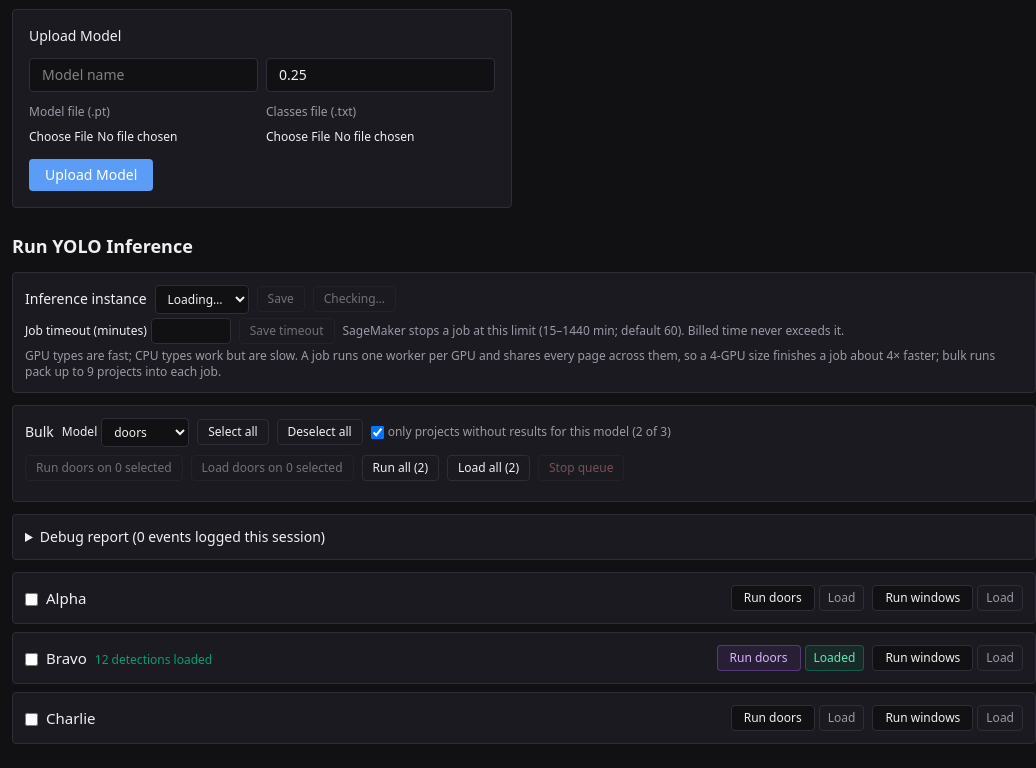
Scenario: YoloBulkBar in AiModelsTab › Select all honours the default-on 'without results' filter; Deselect all clears; counts follow
(page scrolled)
Expected: the button "Run doors on 0 selected" is disabled, [25,455,183,481]
Expected: the button "Run all (2)" is shown, [362,455,439,481]
Click the button "Select all": click(233, 432) [197,419,269,445]
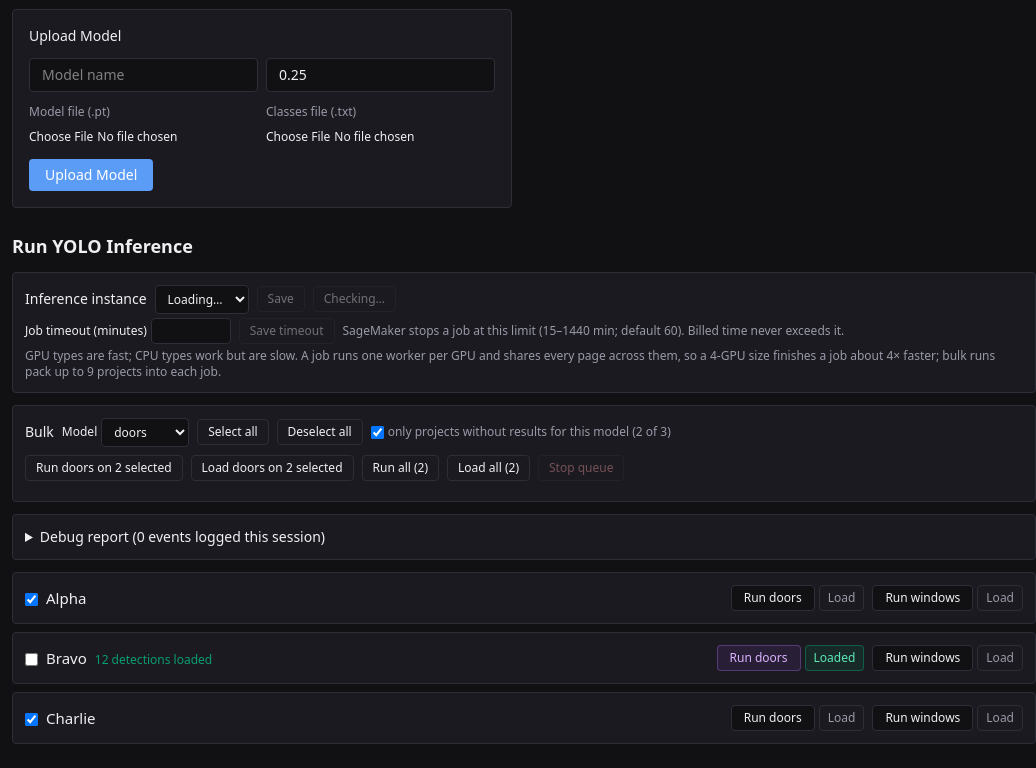
Expected: the checkbox named "Select Alpha for bulk" is checked, [25,593,38,606]
Expected: the button "Run doors on 2 selected" is enabled, [25,455,183,481]
Expected: the button "Load doors on 2 selected" is shown, [191,455,354,481]
Click the checkbox labelled "only projects without results for this model (2 of 3)": click(377, 432) [371,426,384,439]
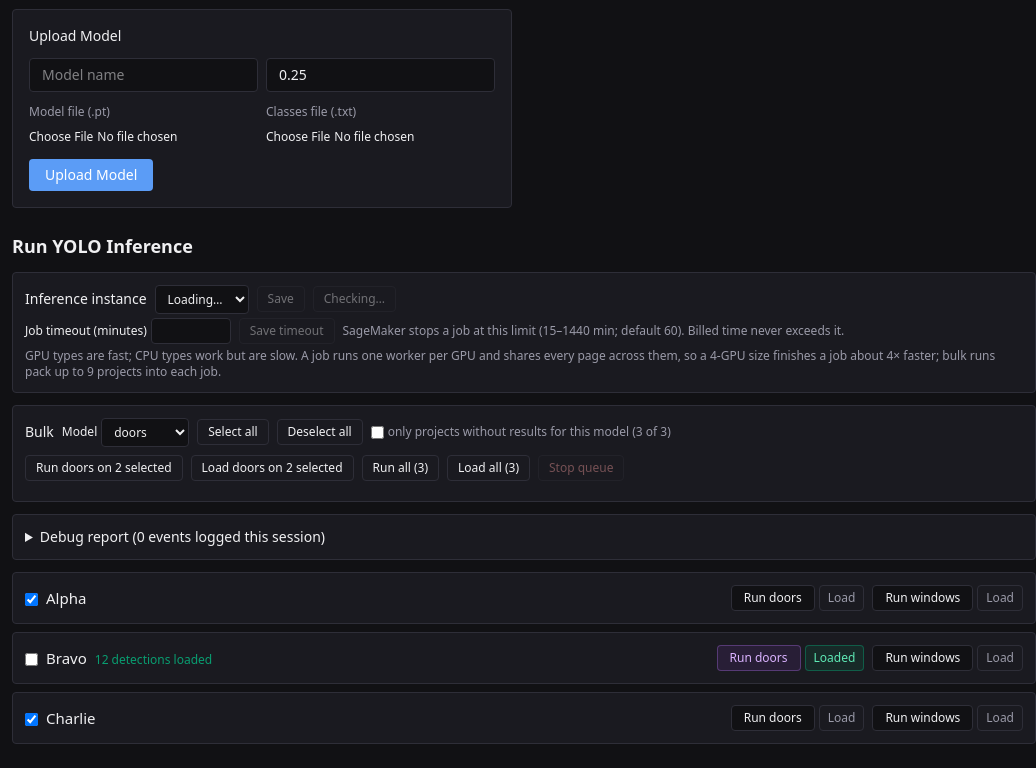
Expected: the button "Run all (3)" is shown, [362,455,439,481]
Click the button "Select all": click(233, 432) [197,419,269,445]
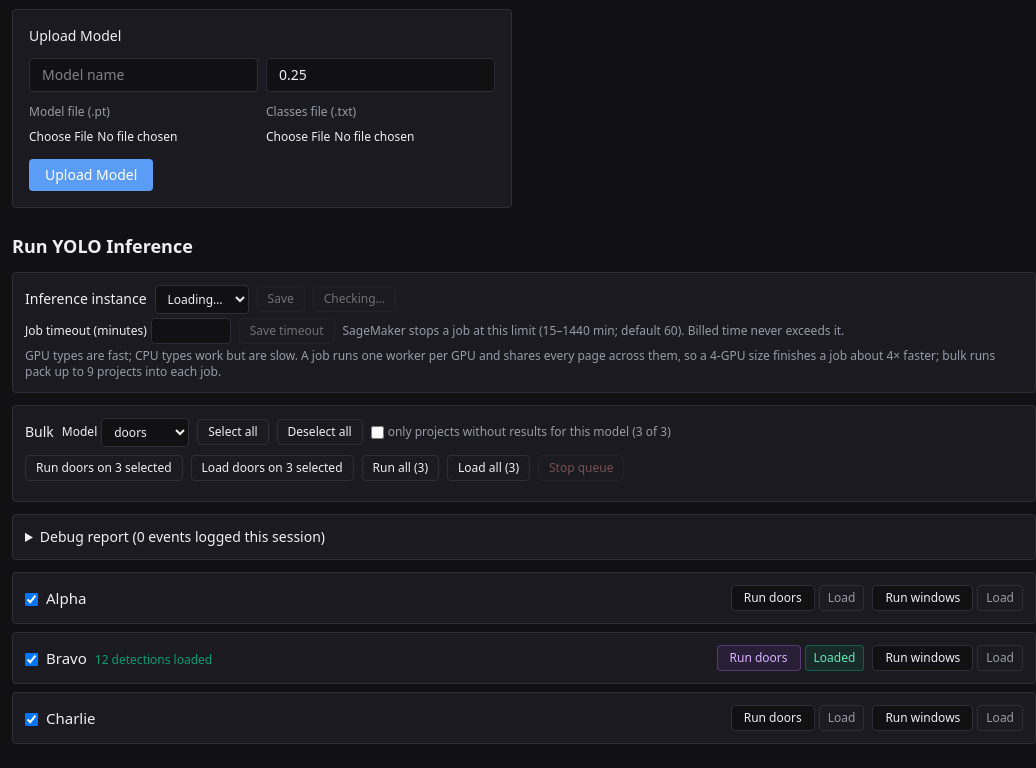
Click the button "Deselect all": click(320, 432) [277,419,363,445]
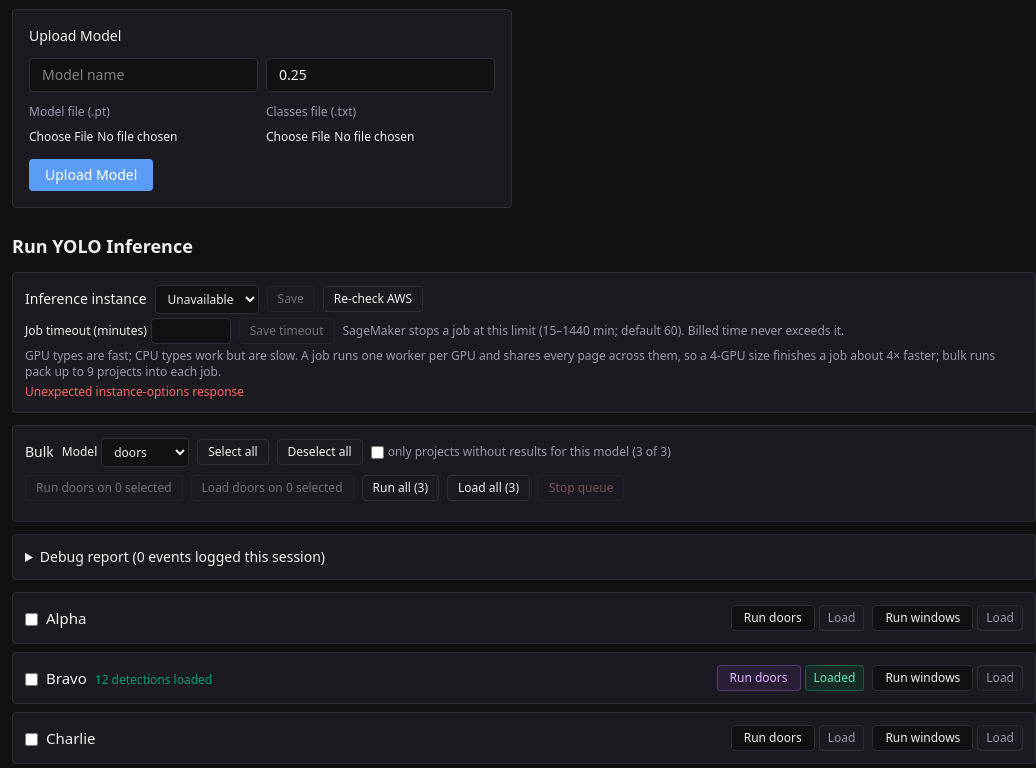
Expected: the button "Run doors on 0 selected" is disabled, [25,475,183,501]
